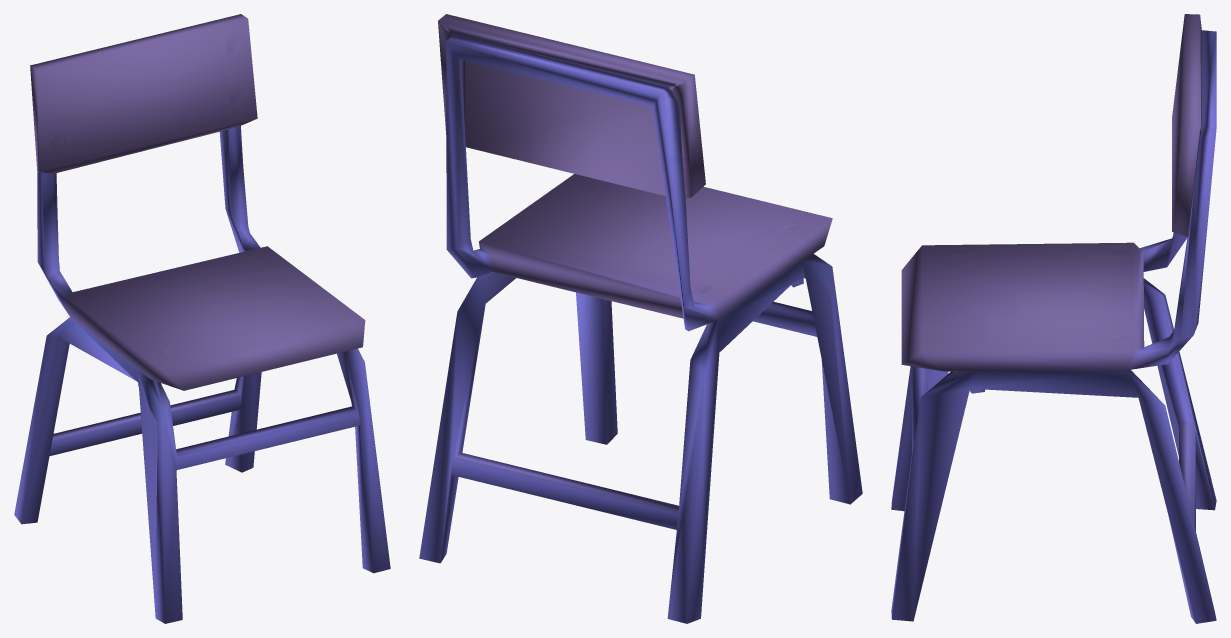
Rendered from model.progressive.glb.
The picture shows the model from 3 angles, left to right: view 1: azimuth 30°, elevation 25°; view 2: azimuth 150°, elevation 25°; view 3: azimuth 270°, elevation 25°; orthographic projection. The views are drawn at different scales.
Visible parts, largest first — view 1: texture_pbr_20250901; view 2: texture_pbr_20250901; view 3: texture_pbr_20250901.
Boxes of the visible parts, bbox=[...] form: texture_pbr_20250901: bbox=[14, 14, 390, 623]; texture_pbr_20250901: bbox=[419, 14, 862, 623]; texture_pbr_20250901: bbox=[891, 14, 1216, 623].
Bounding box in the file's own units: 0.9922 × 1.86 × 1.11.
1 material, 1 textured.
